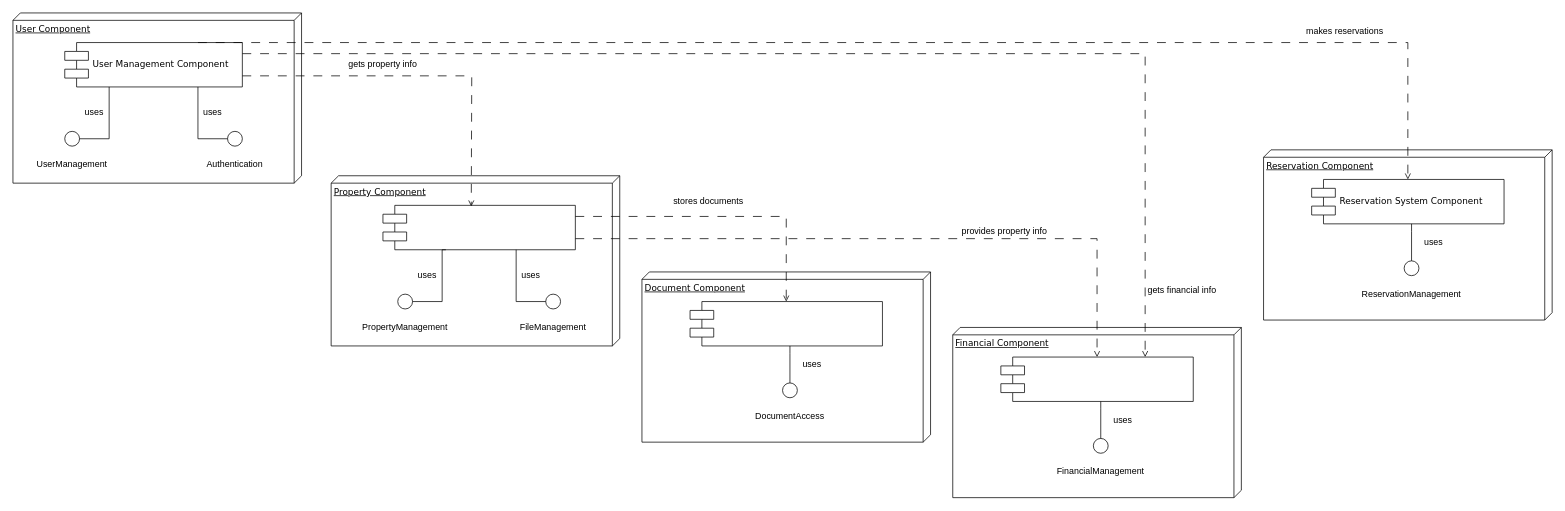
Image size: 1565x511. Some labels were removed from this diagram. Each missing label, with the centre of its shape:
Document Management Component: the point at 785,323
Financial Management Component: the point at 1096,378
Property Management Component: the point at 478,227
